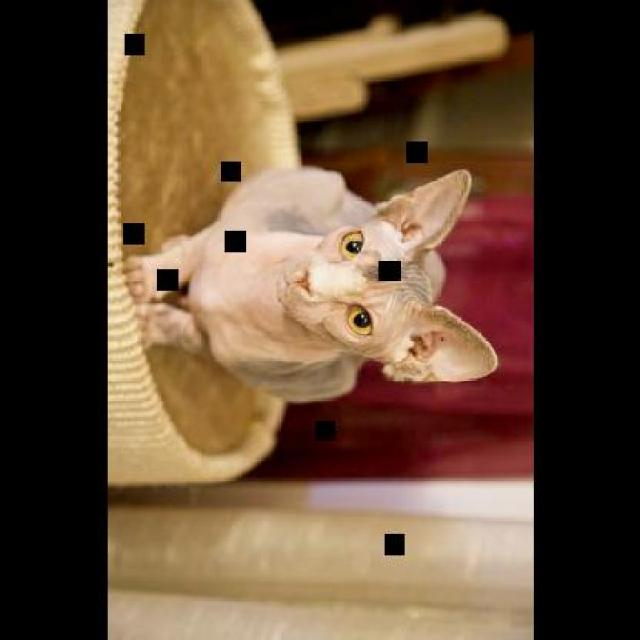unauthorized: (123, 163, 499, 405)
